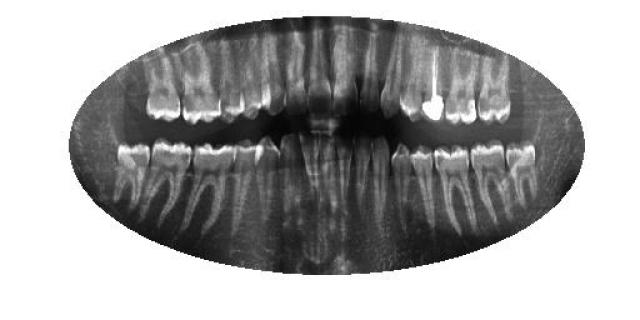Implant: (422, 44, 447, 126)
